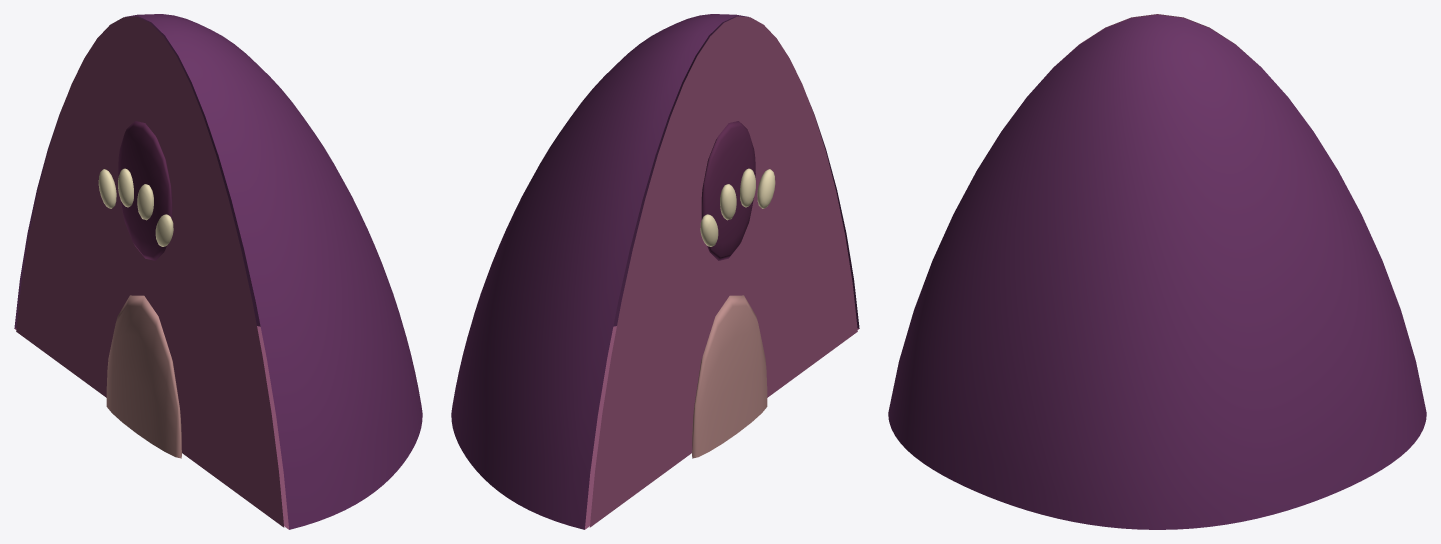
The model's file is event_rainbow_violet_wedge.glb.
3 views of the same model, side by side, from view 1: azimuth 30°, elevation 25°; view 2: azimuth 150°, elevation 25°; view 3: azimuth 270°, elevation 25° (orthographic). The views are drawn at different scales.
Visible parts, largest first — view 1: violet archive violet moist cut flesh, violet archive violet heirloom skin / violet moist cut flesh, violet archive violet pale pith / violet moist cut flesh, violet archive violet seed chambers, violet archive Ivory archive seeds; view 2: violet archive violet moist cut flesh, violet archive violet heirloom skin / violet moist cut flesh, violet archive violet pale pith / violet moist cut flesh, violet archive violet seed chambers, violet archive Ivory archive seeds; view 3: violet archive violet heirloom skin / violet moist cut flesh.
Boxes of the visible parts, x1,y1,x2,y2 form: violet archive violet moist cut flesh: (16,16,284,527); violet archive violet heirloom skin / violet moist cut flesh: (14,14,422,529); violet archive violet pale pith / violet moist cut flesh: (106,295,181,458); violet archive violet seed chambers: (118,121,172,260); violet archive Ivory archive seeds: (98,168,173,246); violet archive violet moist cut flesh: (589,16,857,527); violet archive violet heirloom skin / violet moist cut flesh: (451,14,859,529); violet archive violet pale pith / violet moist cut flesh: (692,295,767,458); violet archive violet seed chambers: (701,121,755,260); violet archive Ivory archive seeds: (700,168,775,246); violet archive violet heirloom skin / violet moist cut flesh: (888,14,1426,529).
Size of the model in its own units: 0.492 by 0.72 by 0.8815.
